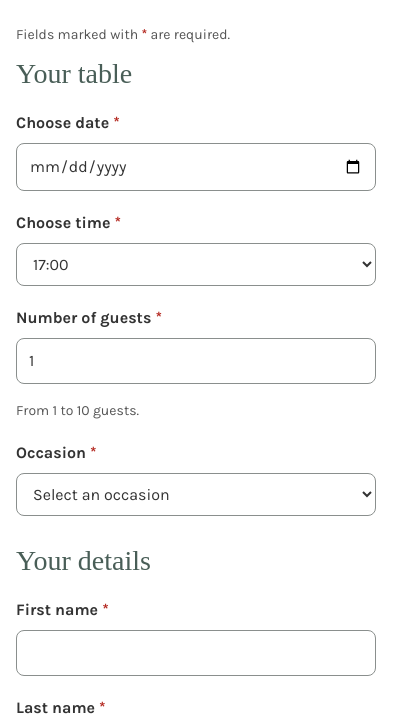
Test: Customer details › the form cannot be submitted without the customer details
Type "2026-10-20" into the date field labelled "Choose date". click: (196, 167)
box: [16,143,376,191]
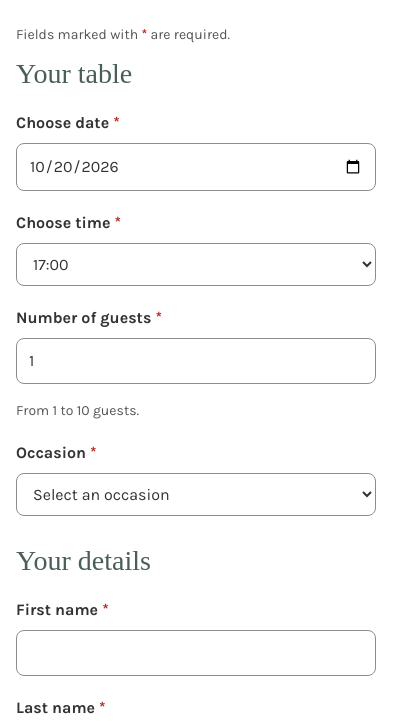
Select "19:00" in the dropdown labelled "Choose time". click: (196, 264)
box: [16,243,376,286]
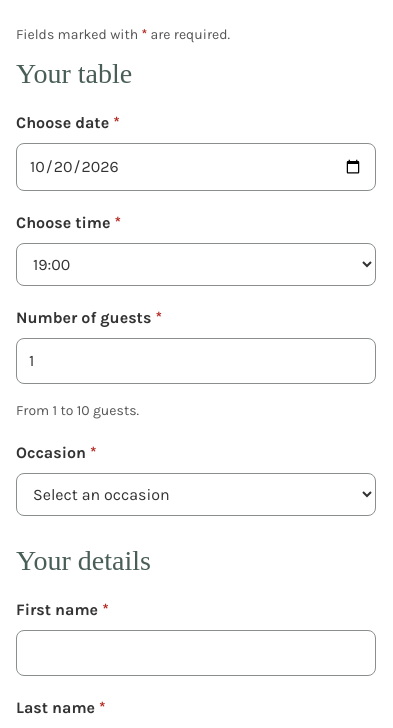
Replace the text in the number field labelled "Number of guests" with "4". click: (196, 361)
box: [16,338,376,384]
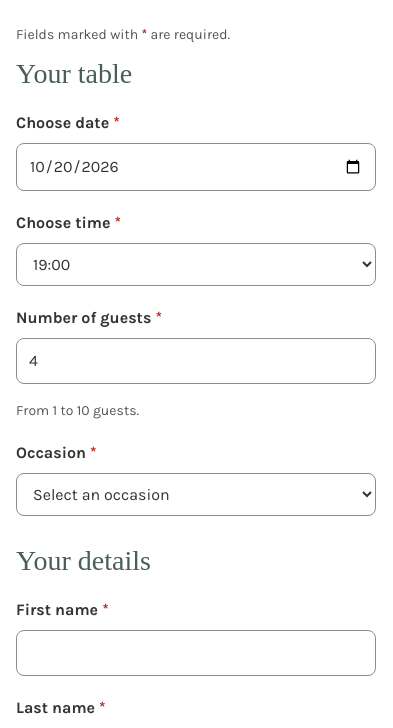
Select "Anniversary" in the dropdown labelled "Occasion". click: (196, 494)
box: [16,473,376,516]
(page scrolled)
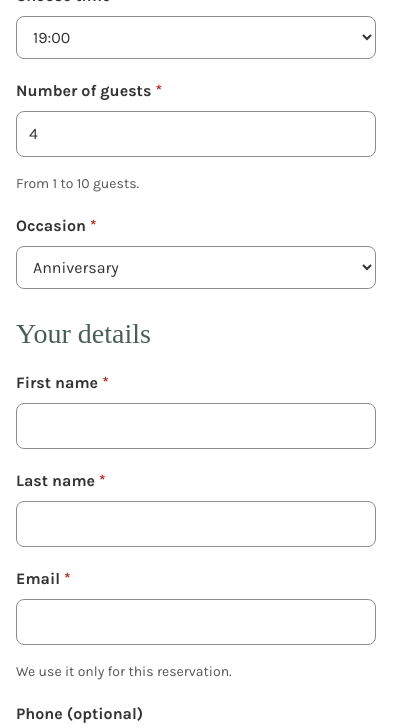
Submit the form named "Make Your reservation"
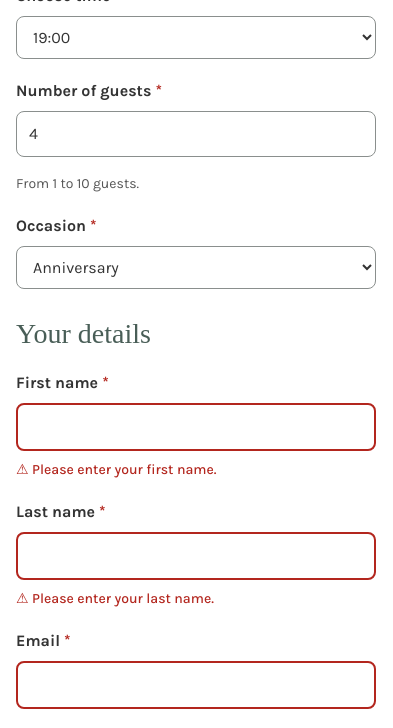
Now the text "Please enter your first name." is shown, box [32,461,217,478]
